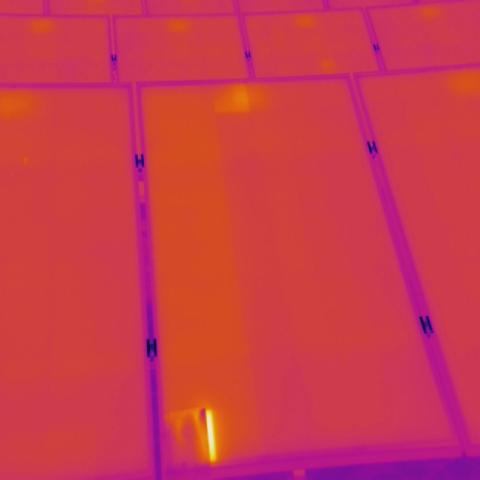fault: (162, 405, 220, 471)
